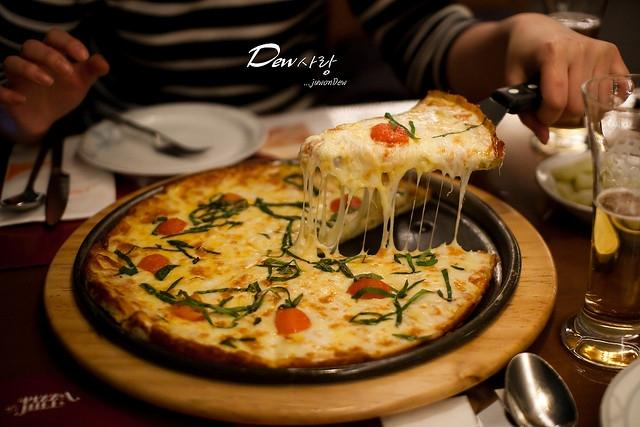tomato: (166, 294, 206, 321), (275, 307, 311, 336), (346, 277, 392, 299), (370, 122, 409, 144), (138, 254, 170, 274), (152, 218, 187, 236), (330, 194, 362, 213), (223, 194, 246, 208)
